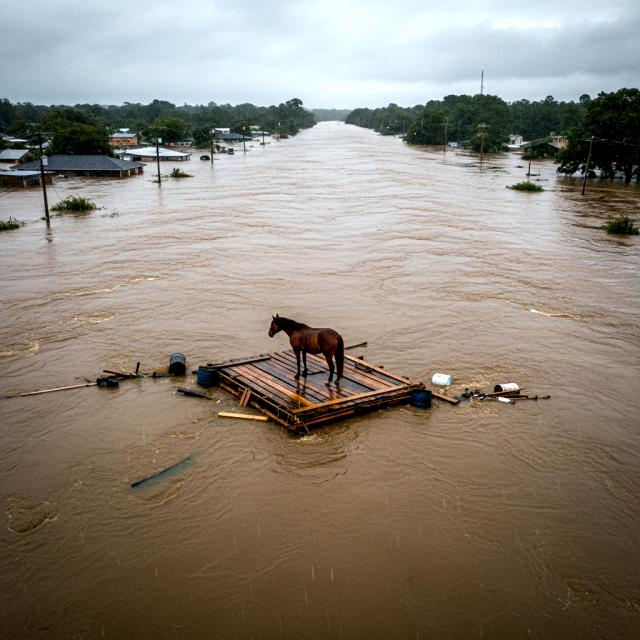horse: (262, 310, 354, 388)
